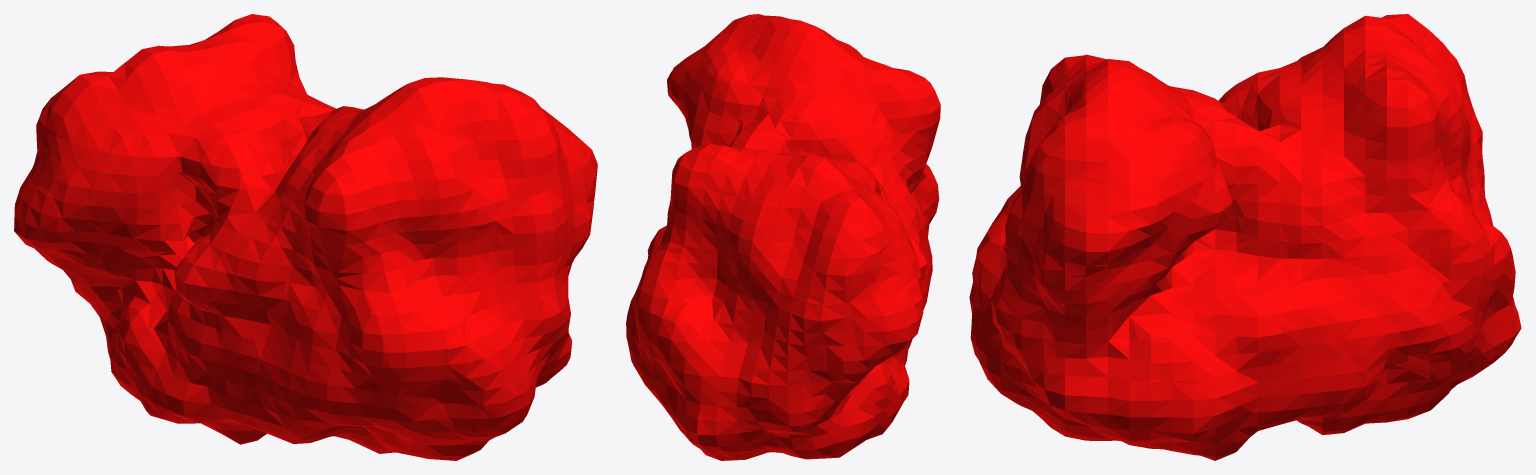
The model's file is ybdK_coarse.dae.
The picture shows the model from 3 angles, left to right: view 1: azimuth 30°, elevation 25°; view 2: azimuth 150°, elevation 25°; view 3: azimuth 270°, elevation 25°; orthographic projection. The views are drawn at different scales.
Visible parts, largest first — view 1: ybdK; view 2: ybdK; view 3: ybdK.
Boxes of the visible parts, left/top/right/bottom form: ybdK: left=14, top=14, right=597, bottom=460; ybdK: left=626, top=14, right=940, bottom=460; ybdK: left=969, top=14, right=1521, bottom=460.
Bounding box in the file's own units: 72.69 × 63.83 × 80.97.
